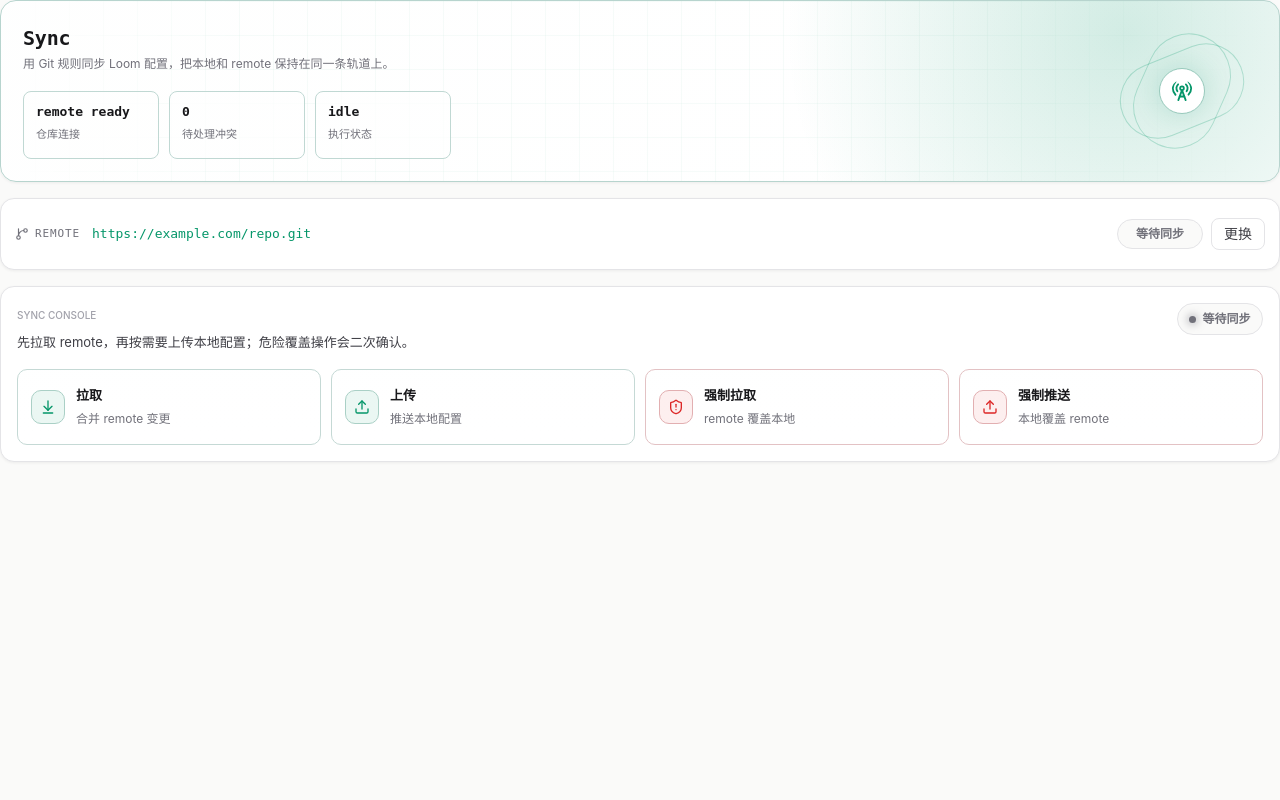
Sync force operations › requires confirmation before force-pushing
The width and height of the screenshot is (1280, 800).
Expected: the link "https://example.com/repo.git" is shown, [92,226,311,241]
Click the button "强制推送 本地覆盖 remote": (990, 407) [959,369,1263,445]
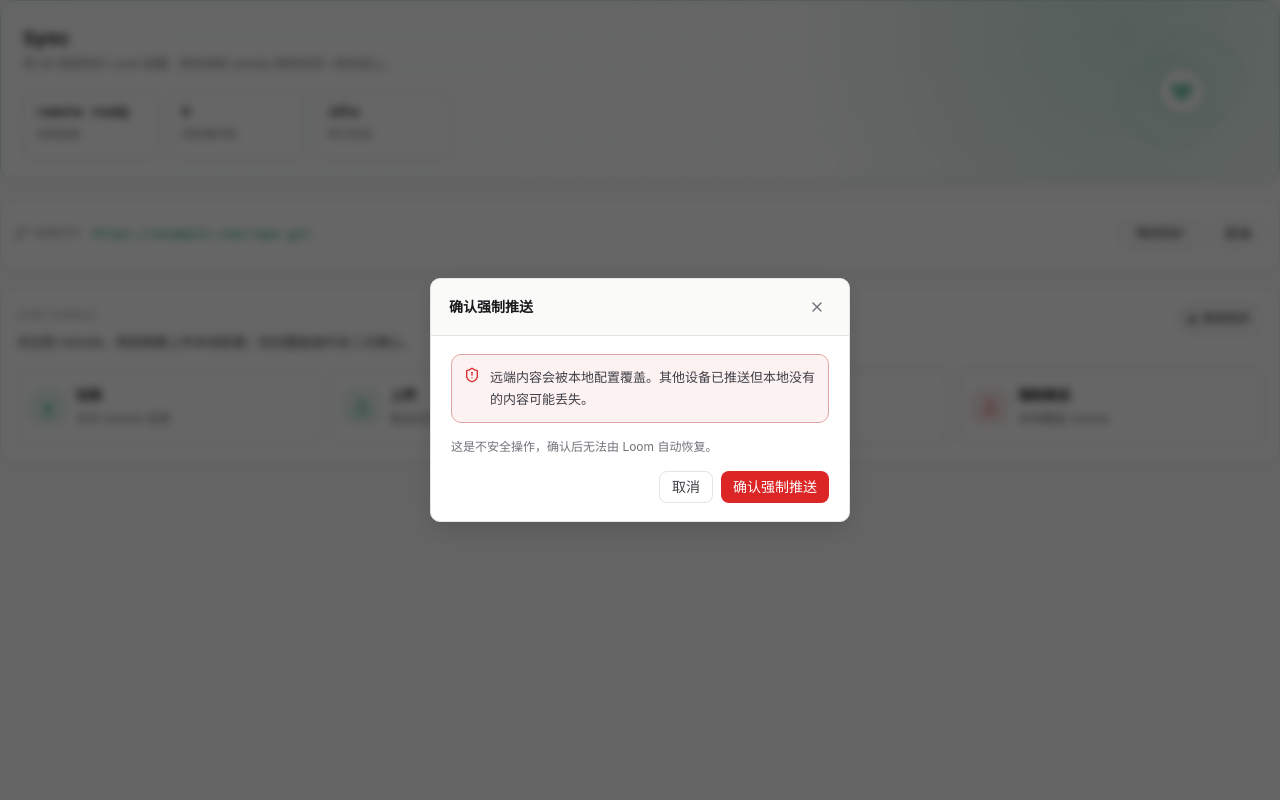
Result: the dialog "确认强制推送" is shown at [430,278,850,522]
Result: the text "远端内容会被本地配置覆盖。其他设备已推送但本地没有的内容可能丢失。" is shown at [490,367,816,410]
Click the button "取消": (686, 487) [659,471,713,503]
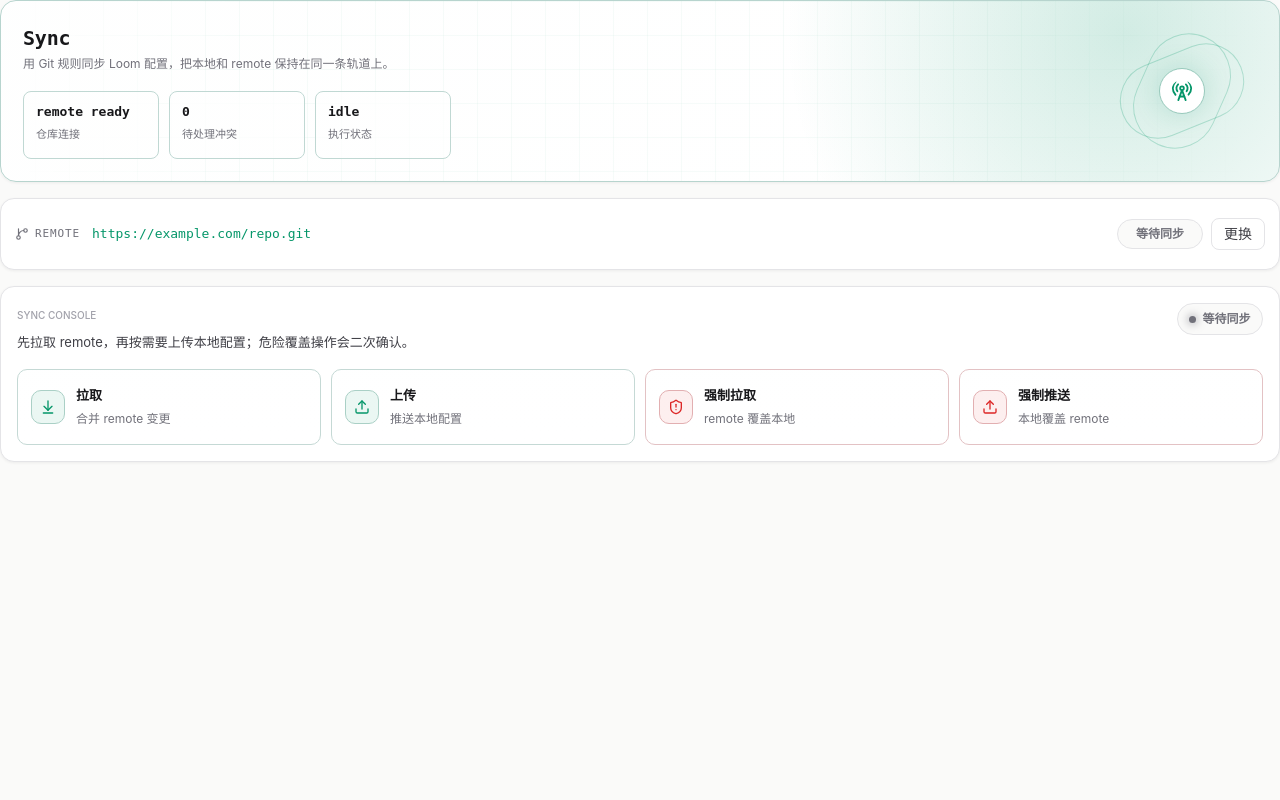
Result: the text "确认强制推送" is gone
Click the button "强制推送 本地覆盖 remote": (990, 407) [959,369,1263,445]
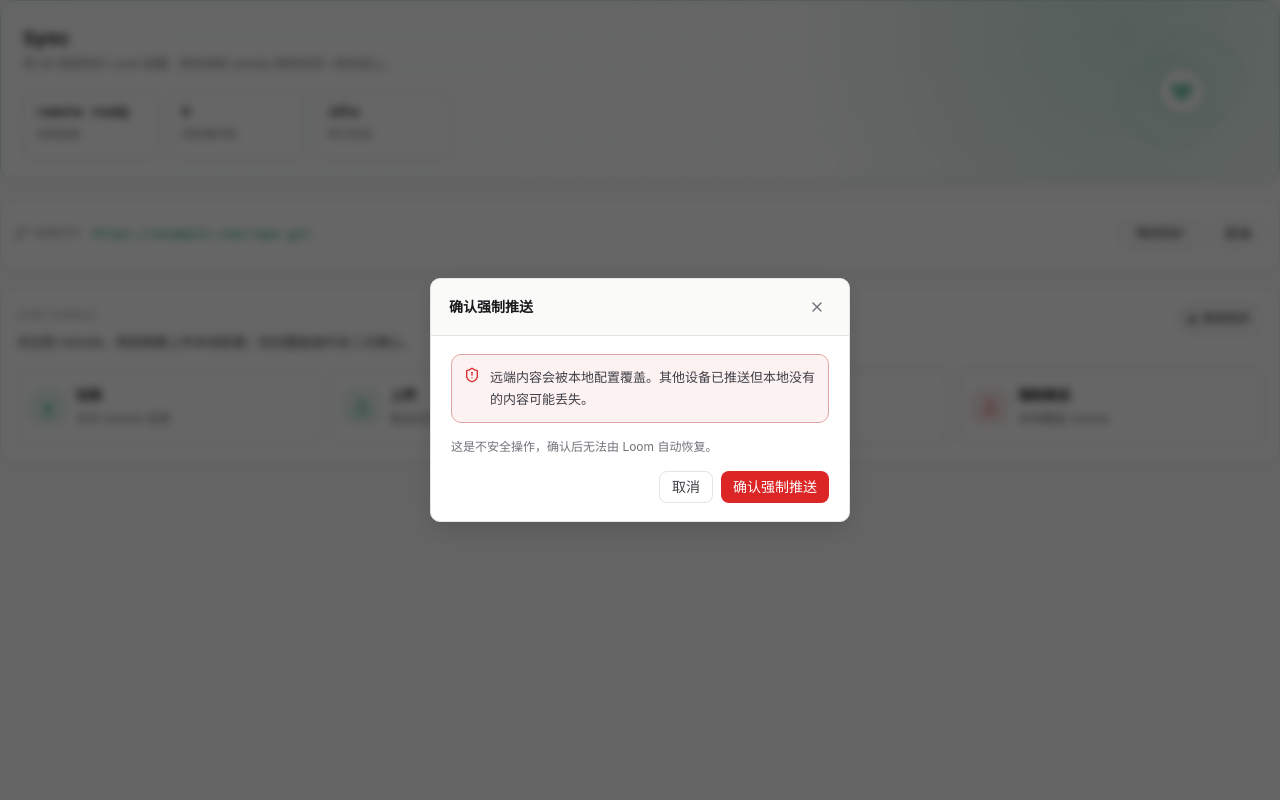
Click the button "确认强制推送": (775, 487) [721,471,829,503]
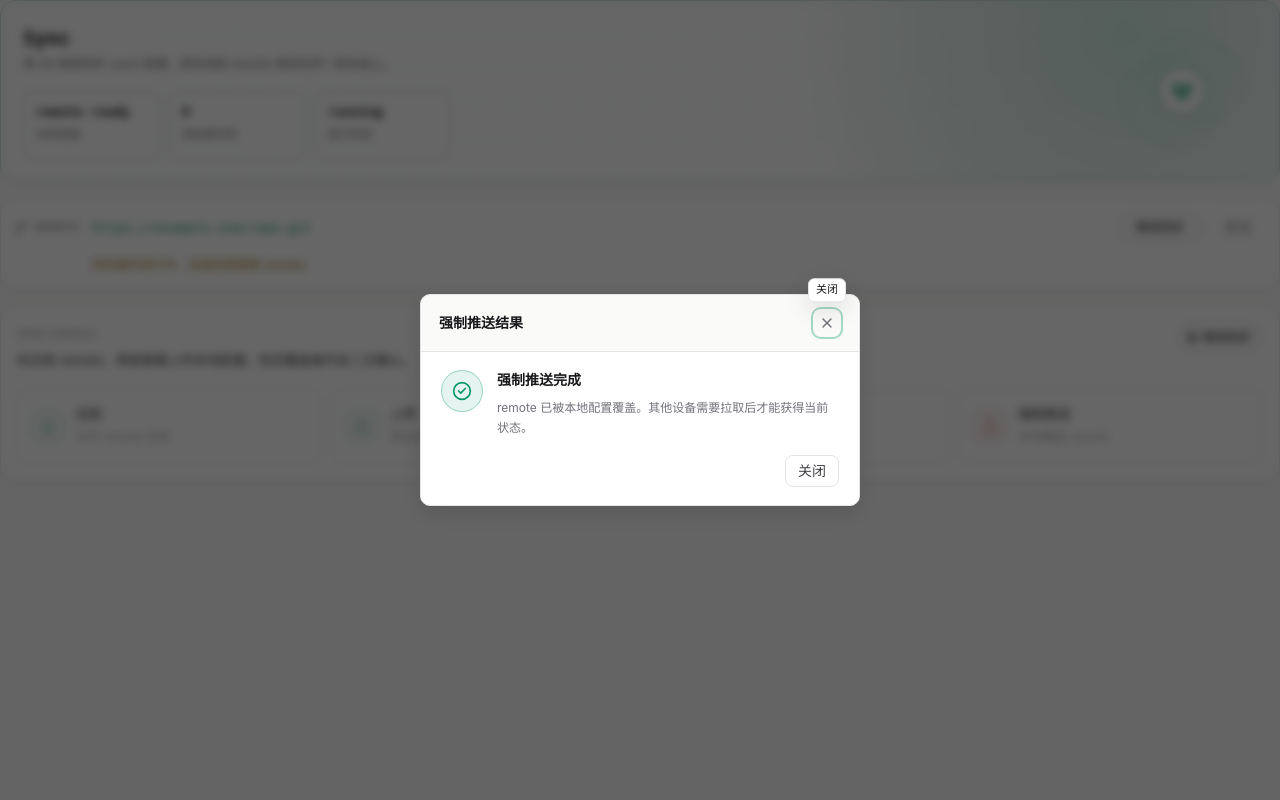
Result: the text "强制推送完成" is shown at [497,372,581,388]
